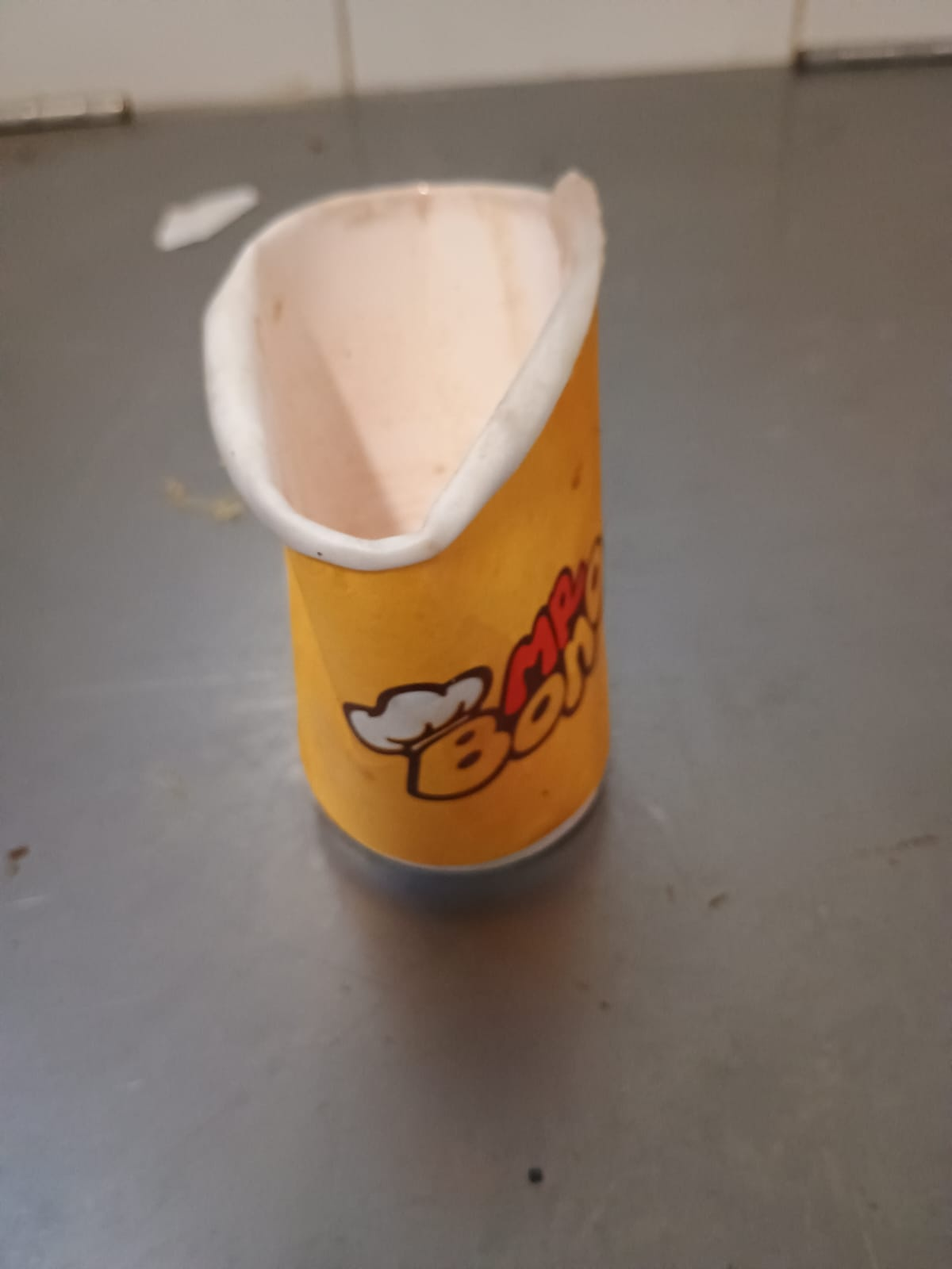Carton: (205, 181, 620, 876)
